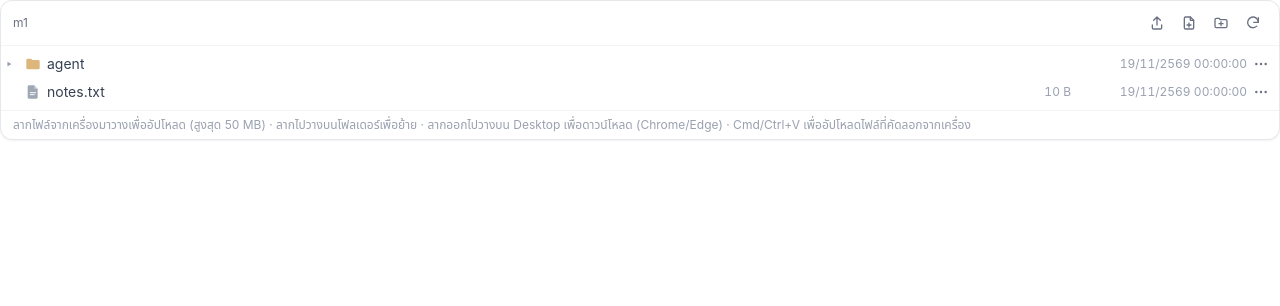
Scenario: FilesTab row menu › the ⋯ button opens the same menu; an outside press closes it
Expected: the button "notes.txt" is shown, [7, 78, 991, 106]
Click the button named "More Actions: notes.txt" at (1261, 92), box [1251, 82, 1271, 102]
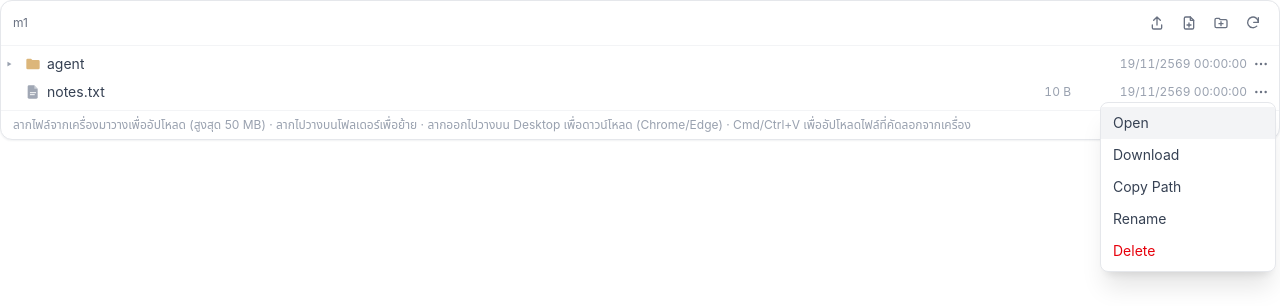
Press the mouse on the element that starts with "agent" at (640, 70), box [0, 0, 1279, 140]
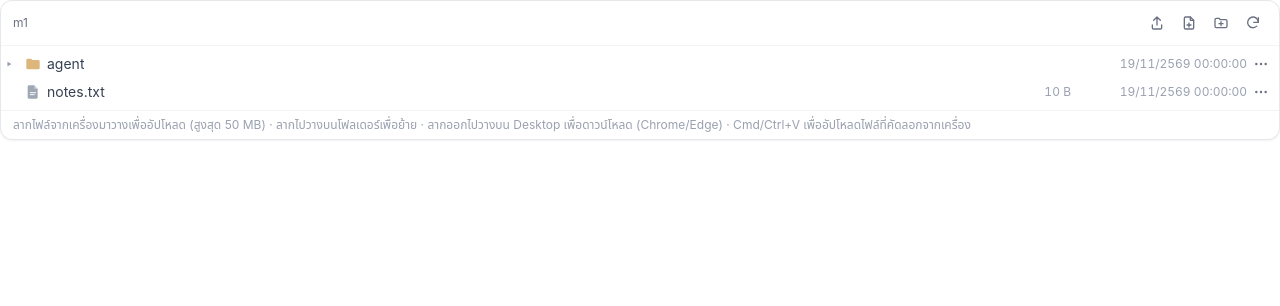
Expected: the menu is gone
